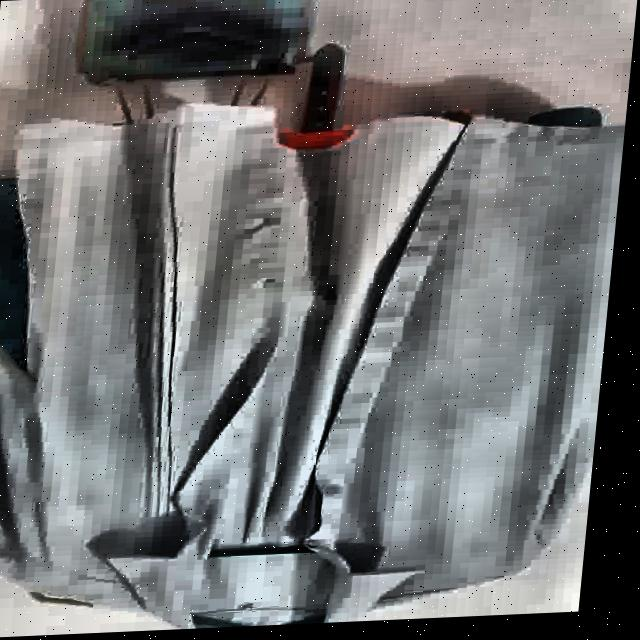clothes: (0, 77, 630, 640)
